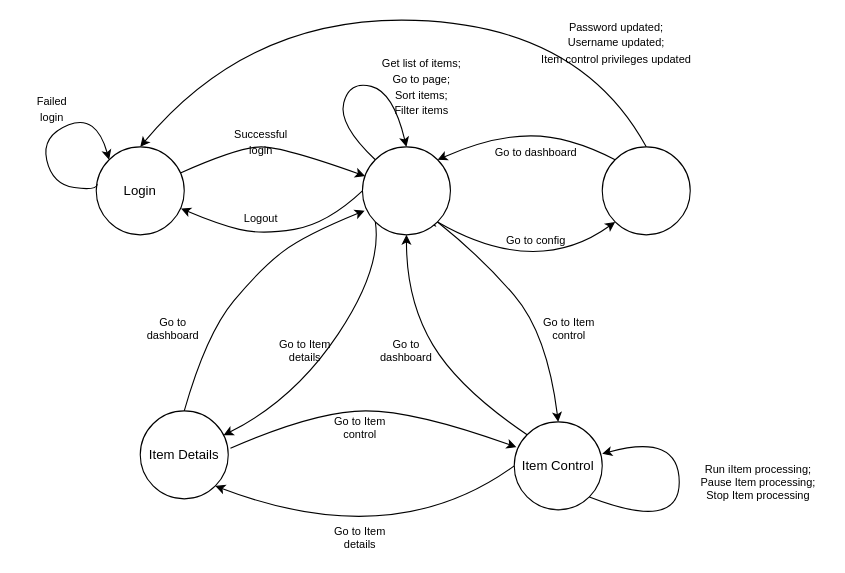
This 845x573 diagram has some shape labels left out. The shapes that lost their labels are listed below. From the top down, each one's centre as x and y in pixels, then its label:
the point at 405,190: Dashboard
the point at 645,190: Config
